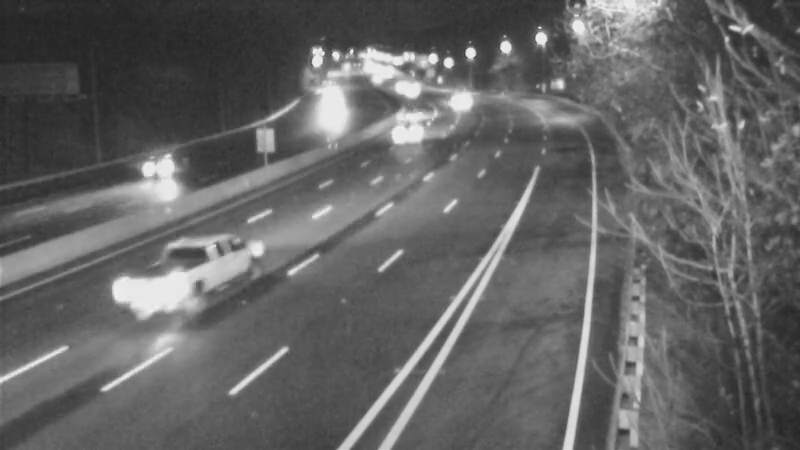vehicle: (127, 250, 207, 330), (118, 125, 198, 205), (384, 58, 434, 108), (434, 71, 484, 121), (379, 88, 429, 138), (380, 108, 430, 158), (296, 84, 346, 134)
